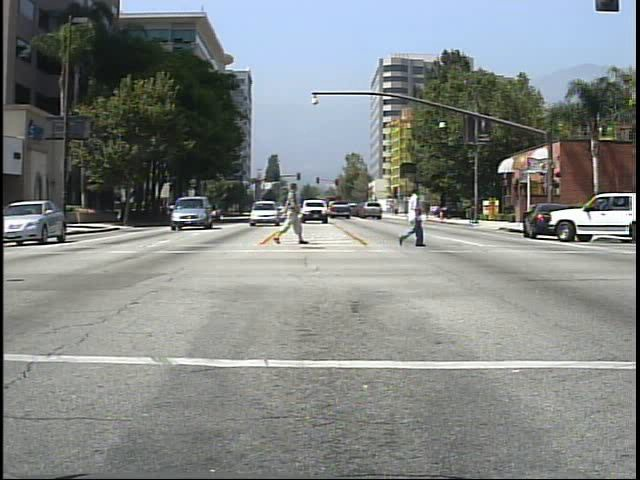person: (273, 175, 310, 249), (395, 176, 430, 254)
